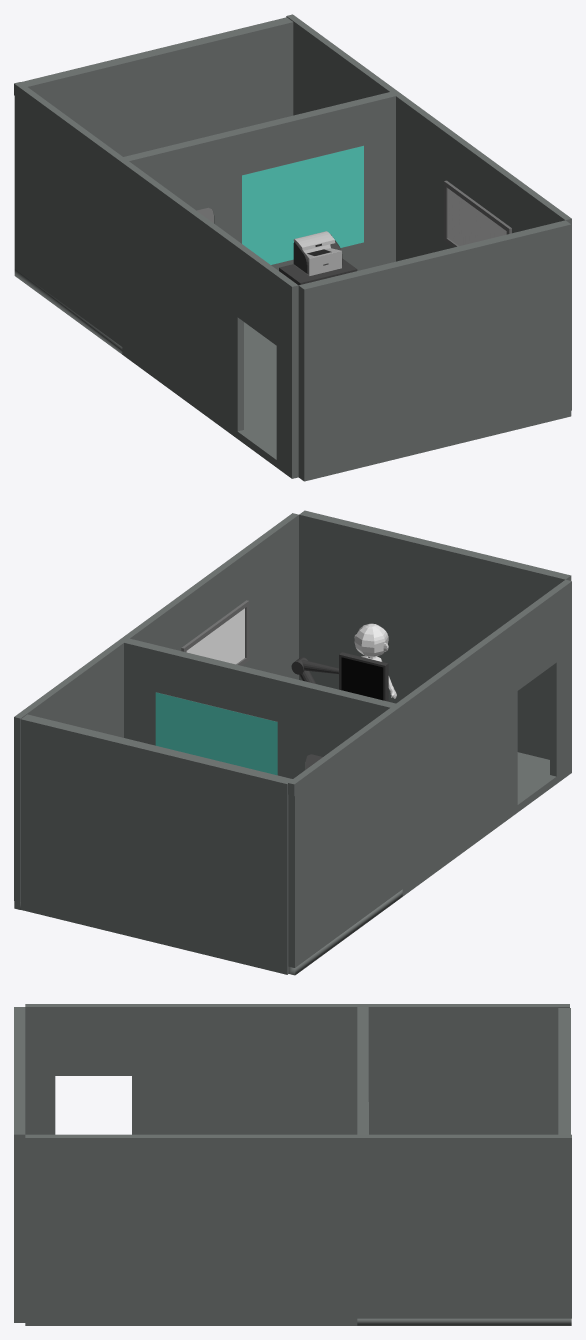
Rendered from ConsulRayosX2.fbx.
3 renders of one model, top to bottom at view 1: azimuth 30°, elevation 25°; view 2: azimuth 150°, elevation 25°; view 3: azimuth 270°, elevation 25°, orthographic. The views are drawn at different scales.
Parts seen in each view (by area): view 1: Consultorio, Cube.004, Cube.002, Cube.003; view 2: Consultorio, Cylinder.004, Cube.004, Nene; view 3: Consultorio.
Part boxes in pixels (bbox=[...]): Consultorio: bbox=[14, 14, 571, 481]; Cube.004: bbox=[444, 180, 511, 247]; Cube.002: bbox=[293, 231, 342, 275]; Cube.003: bbox=[279, 258, 357, 285]; Consultorio: bbox=[14, 510, 571, 975]; Cylinder.004: bbox=[291, 652, 388, 701]; Cube.004: bbox=[181, 600, 249, 665]; Nene: bbox=[354, 623, 396, 698]; Consultorio: bbox=[14, 1004, 571, 1325].
Size of the model in its own units: 779 by 511 by 1373.
